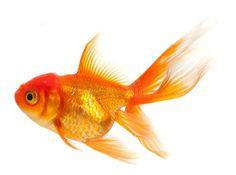goldfish: (12, 48, 185, 155)
